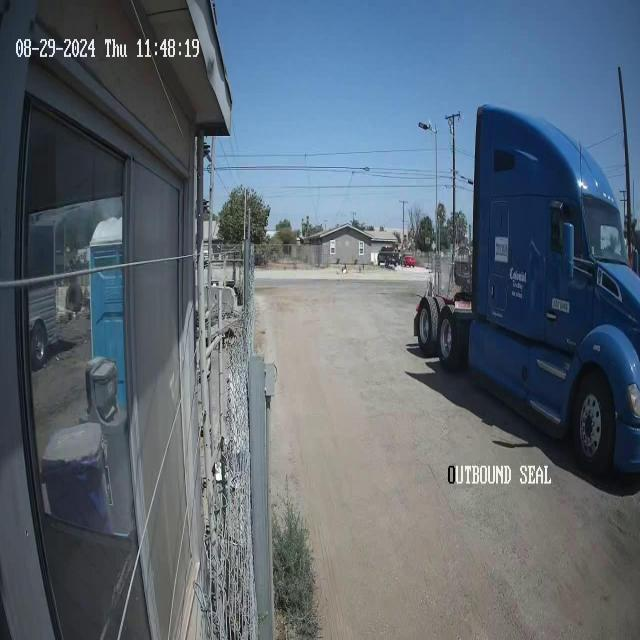TRUCK_IN: (414, 101, 639, 479)
